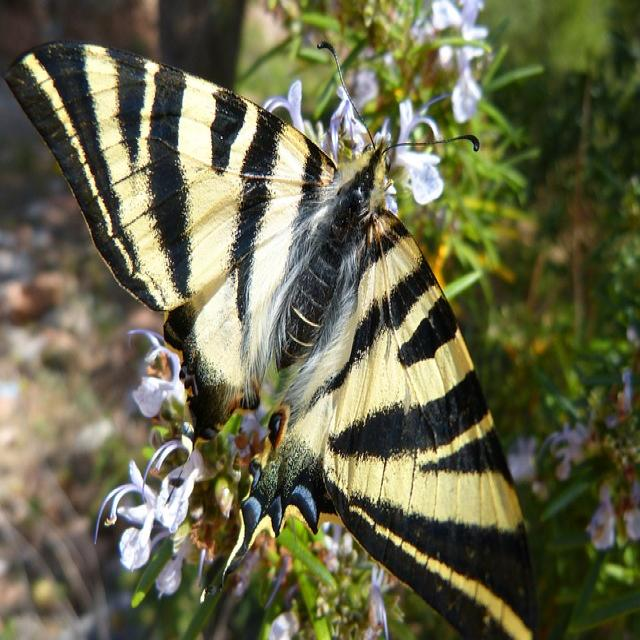butterfly: (5, 41, 538, 640)
